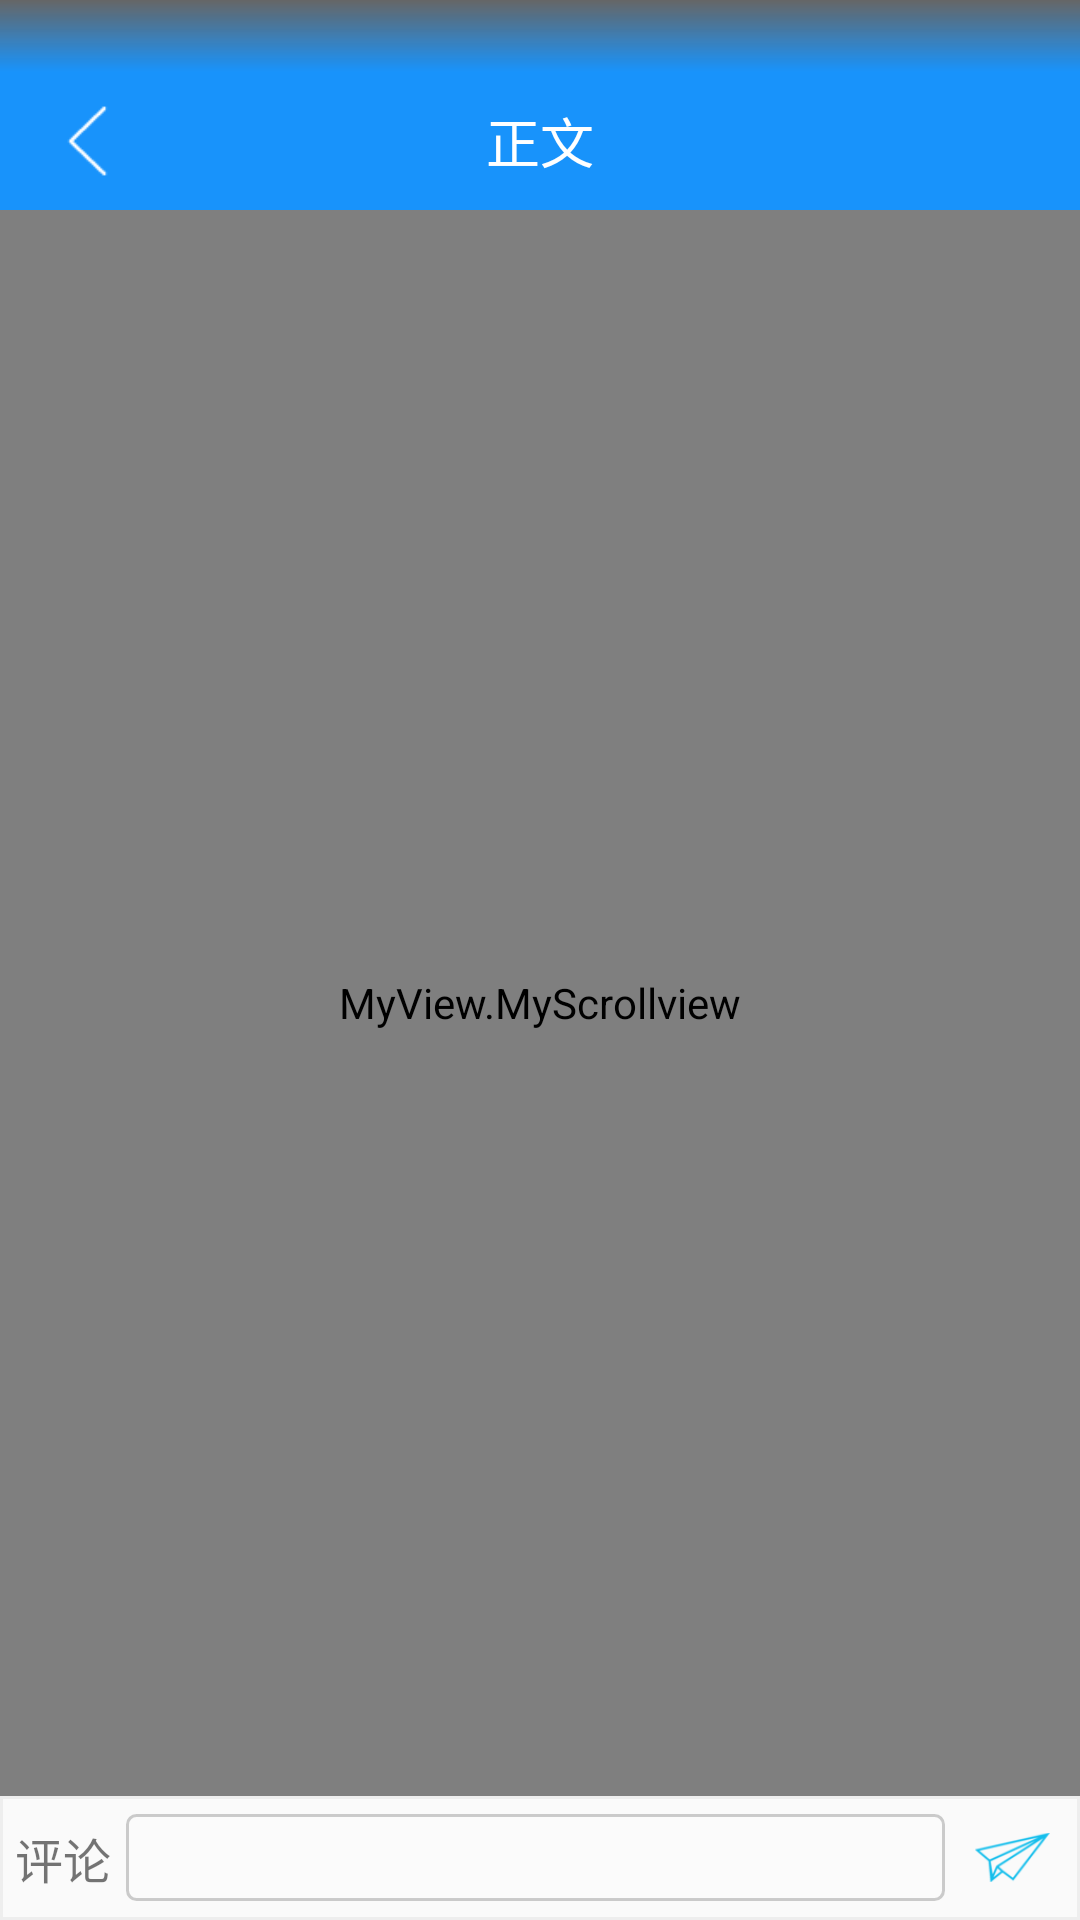

Screen size 1080w x 1920h. Icon name, then its box in pixels as (x1, y1, x2, y2):
send: (975, 1833, 1050, 1882)
toleft: (68, 106, 107, 176)
